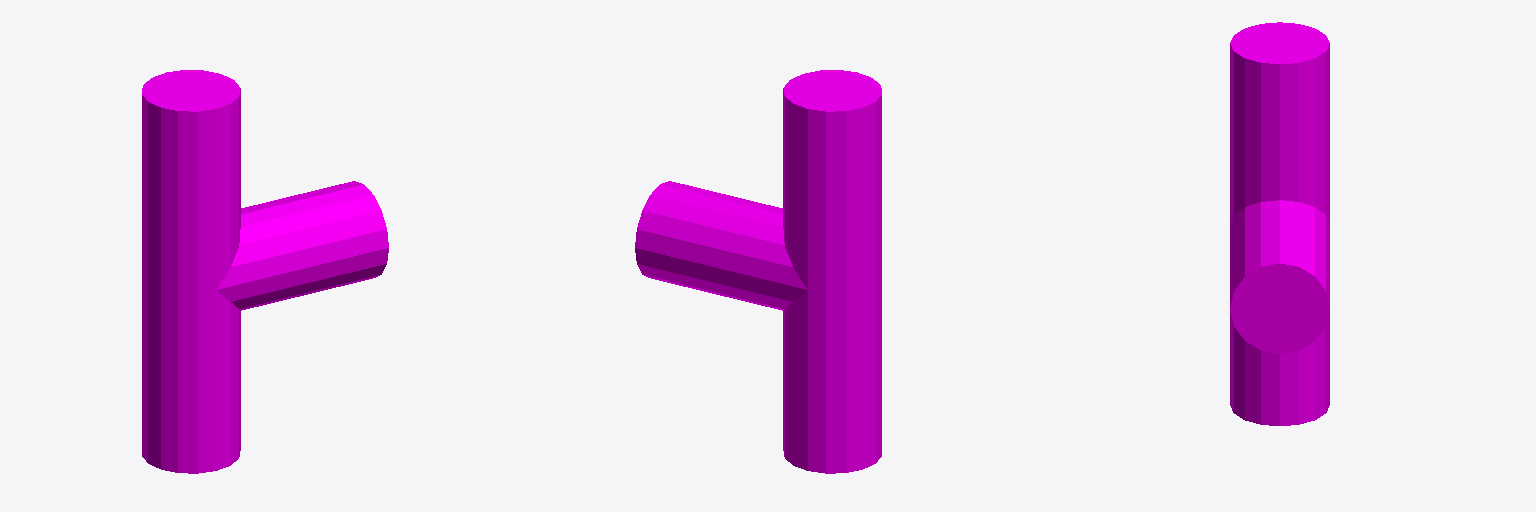
Rendered from joint_hinge2.obj.
3 renders of one model, left to right at view 1: azimuth 30°, elevation 25°; view 2: azimuth 150°, elevation 25°; view 3: azimuth 270°, elevation 25°, orthographic.
Visible parts, largest first — view 1: cylinder1, cylinder1_copy2; view 2: cylinder1, cylinder1_copy2; view 3: cylinder1, cylinder1_copy2.
Boxes of the visible parts, x1,y1,x2,y2 form: cylinder1: [142, 70, 240, 473]; cylinder1_copy2: [216, 181, 388, 310]; cylinder1: [783, 70, 881, 473]; cylinder1_copy2: [635, 181, 807, 310]; cylinder1: [1230, 22, 1329, 425]; cylinder1_copy2: [1230, 200, 1329, 353].
Size of the model in its own units: 1.25 by 2 by 0.5.